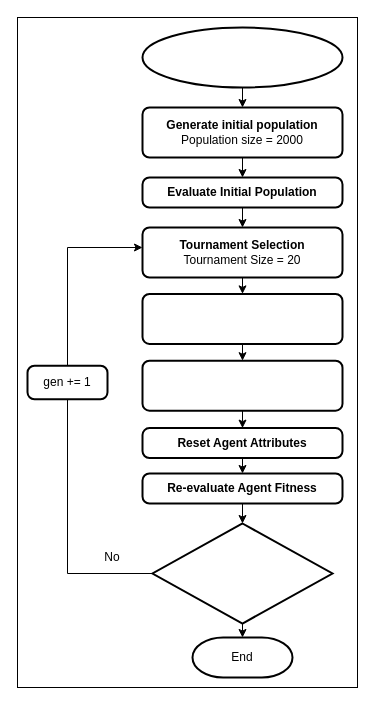
Some shapes in this 375 by 705 pixel diagram are drawn without their labels. Each missing label, with the centre of its shape:
2 Point Crossover Probability per agent = 15%: (242,318)
Is gen == 200?: (242,573)
Shuffle Index Mutation Probability per gene = 5%: (242,385)
Start Algorithm gen=1: (242,57)
